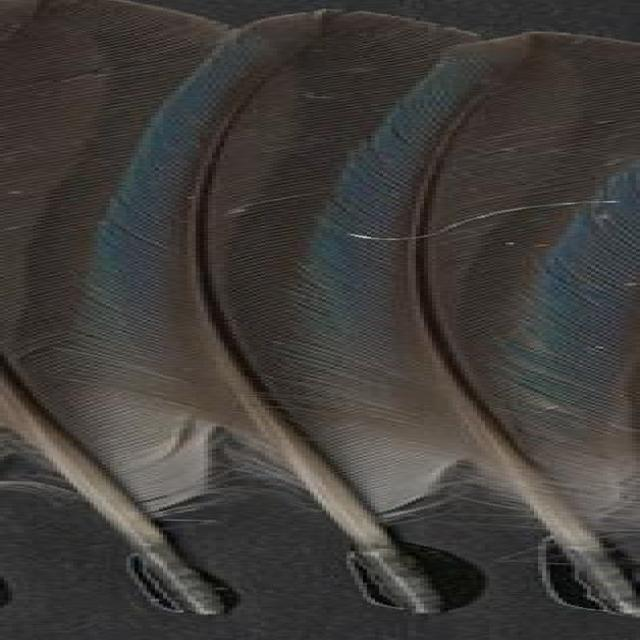feather: (108, 0, 510, 618), (292, 34, 640, 621), (0, 0, 238, 615)
